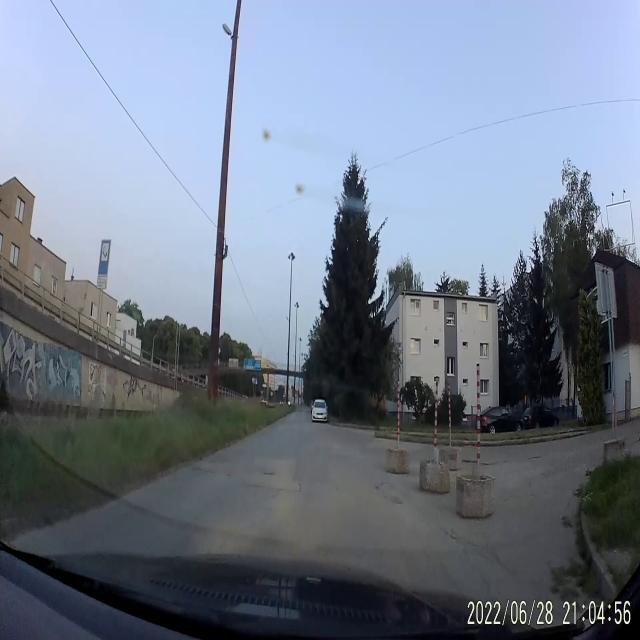Pothole: (376, 478, 404, 512), (260, 466, 278, 480)
